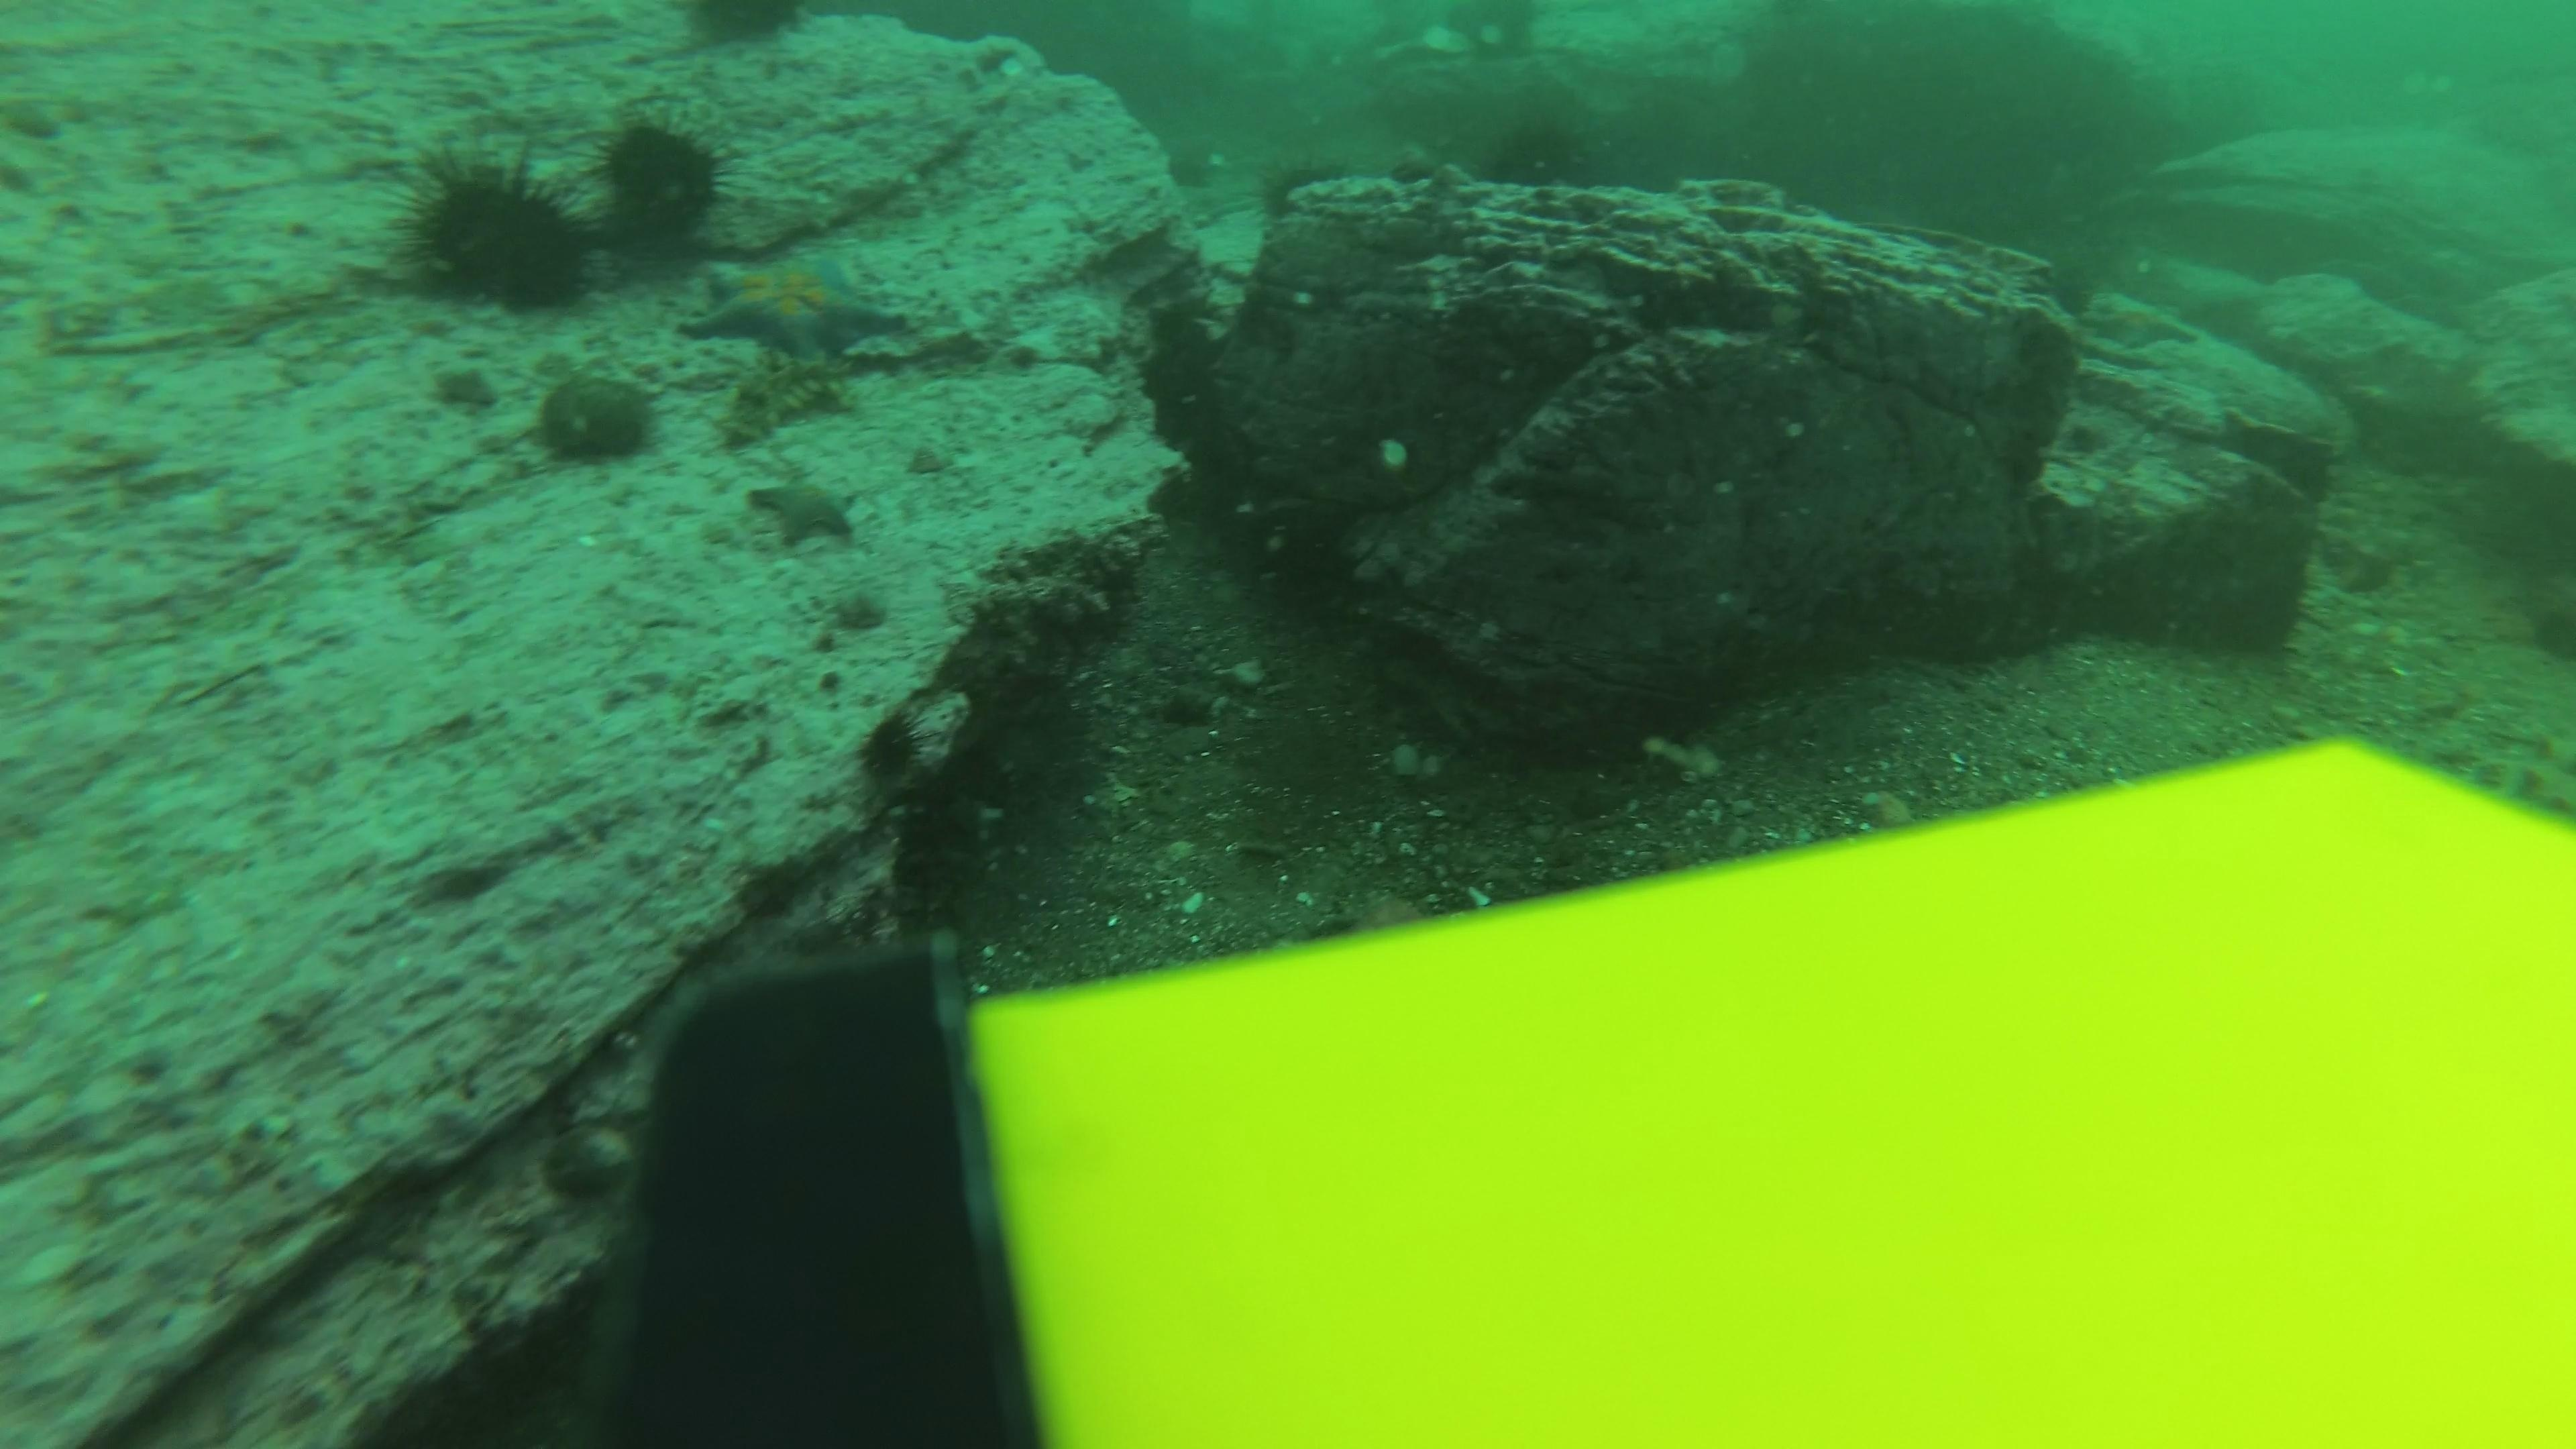echinus: (386, 145, 605, 320), (589, 108, 734, 248), (525, 368, 665, 476), (1479, 110, 1589, 193), (844, 697, 954, 780), (1246, 142, 1353, 225), (676, 0, 816, 55)
starfish: (679, 246, 911, 370), (743, 472, 865, 550), (2079, 287, 2204, 356), (1683, 170, 1790, 225), (954, 30, 1049, 87)
